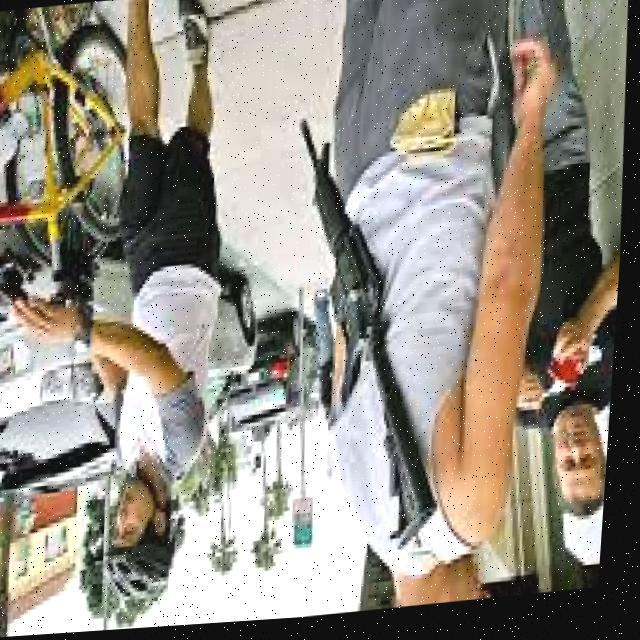firearm: (277, 108, 469, 570)
